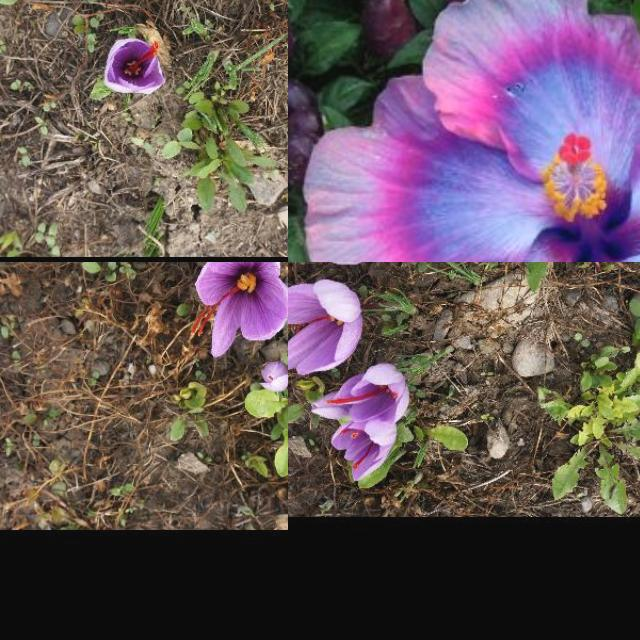flower: (189, 262, 288, 359), (288, 279, 363, 376), (103, 38, 167, 96)
overlap: (312, 362, 411, 482)
